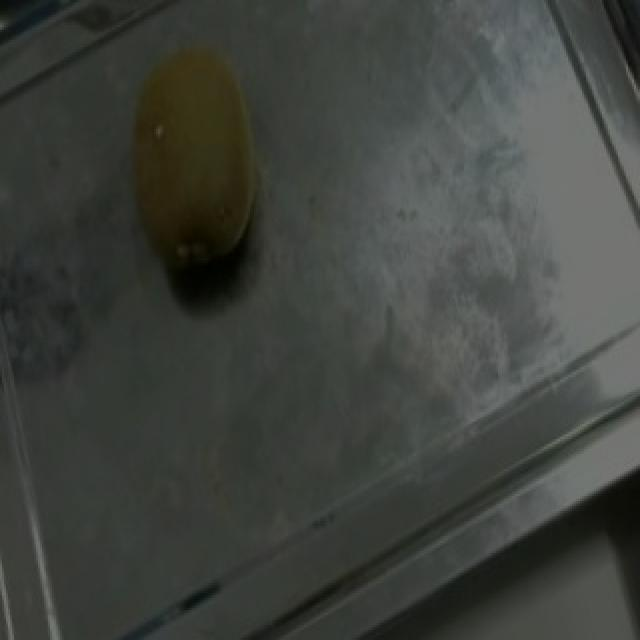Fruit: (84, 15, 302, 298)
